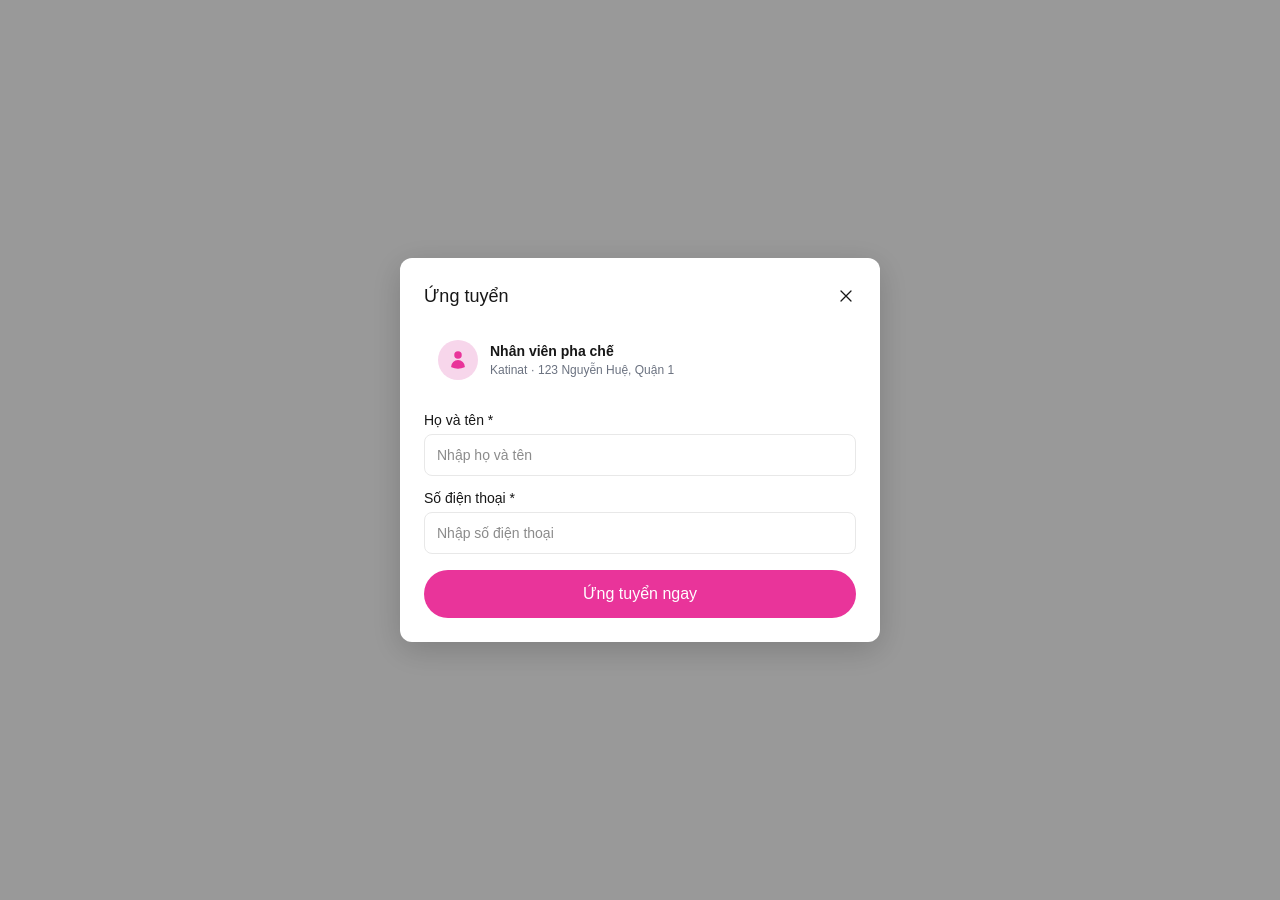
Test: ApplyModal › shows the success state after a successful submit
This screenshot has width=1280, height=900.
In the field labelled "Họ và tên *": (640, 455) [424, 434, 856, 476], type "Nguyễn Văn A"
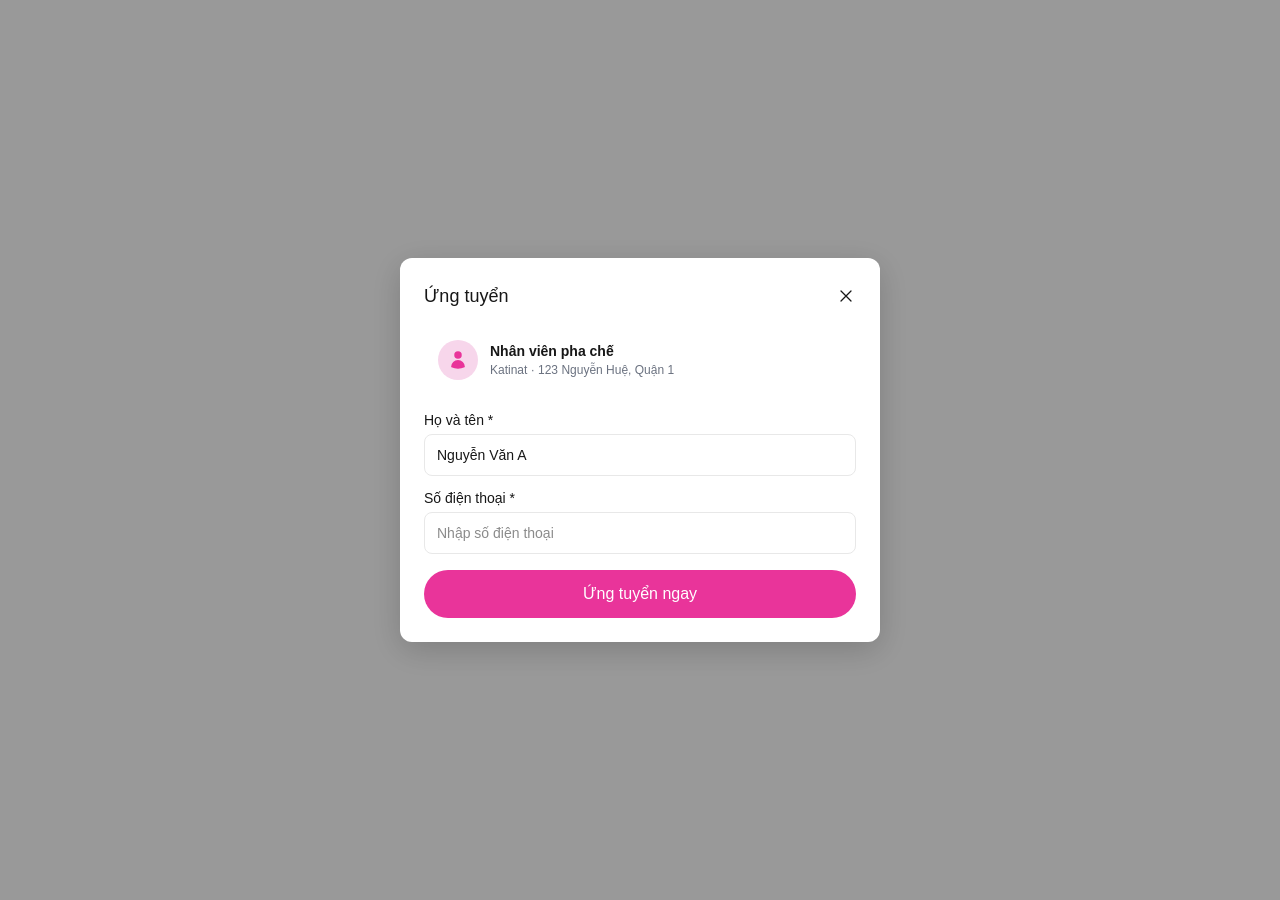
In the field labelled "Số điện thoại *": (640, 533) [424, 512, 856, 554], type "0987654321"
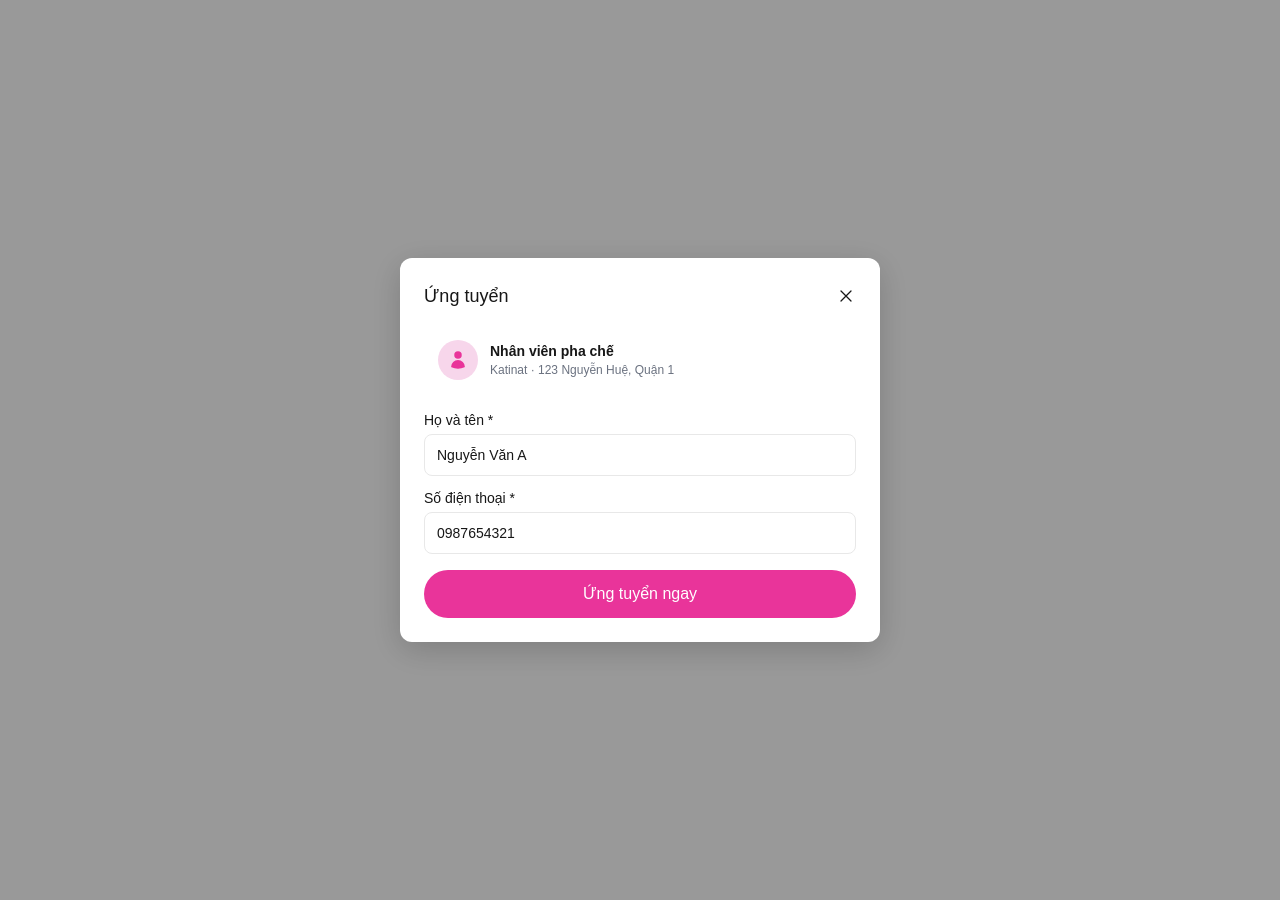
Click the button "Ứng tuyển ngay": (640, 594) [424, 570, 856, 618]
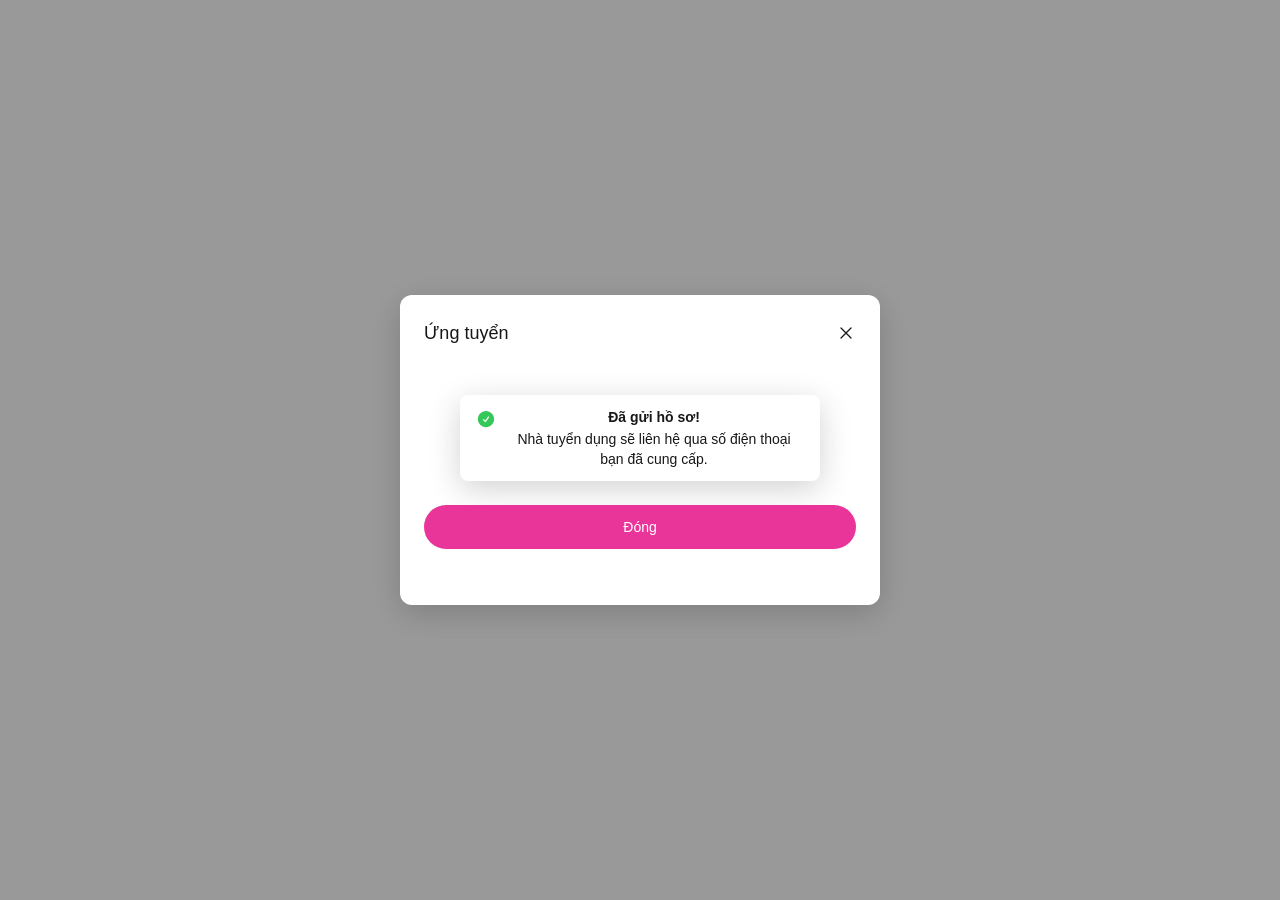
Result: the text "Đã gửi hồ sơ!" is shown at [608, 409, 700, 425]
